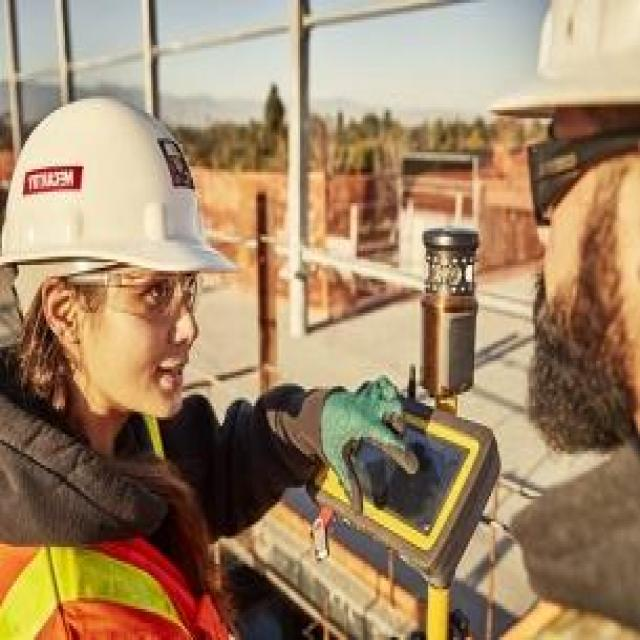Reflective-Jacket: (2, 414, 241, 640)
Safety-Helmet: (2, 90, 239, 288), (484, 0, 640, 129)
